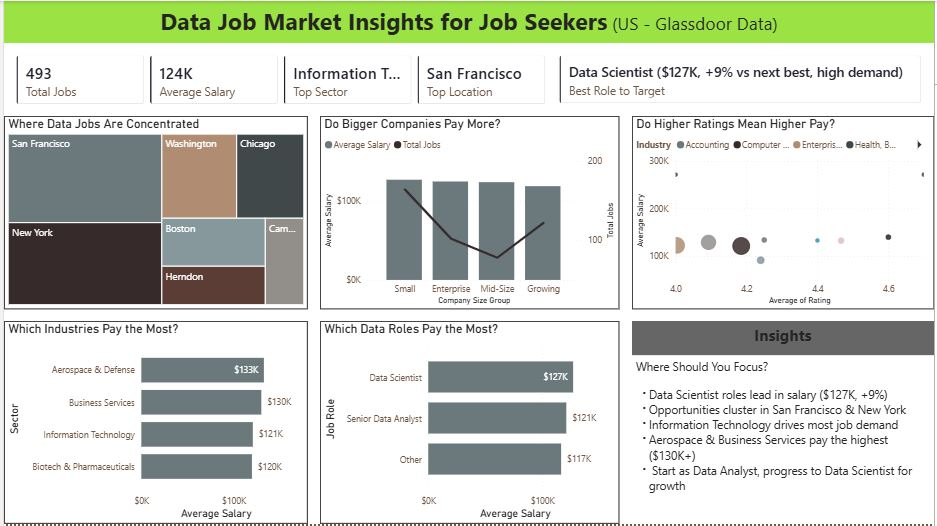

The dashboard page shown, as its layout file describes it:
{"tool":"powerbi","page":{"name":"Dashboard","canvas":[1280,720],"ordinal":0},"visuals":[{"type":"scatterChart","title":"Do Higher Ratings Mean Higher Pay?","fields":{"Size":["Data.Total Jobs"],"Y":["Data.Average Salary"],"X":["Avg(Data.Rating)"],"Series":["Data.Industry"]},"box":[864.3,158.3,415.7,265.6],"z":0},{"type":"barChart","title":"Which Industries Pay the Most?","fields":{"Y":["Data.Average Salary"],"Category":["Data.Sector","Data.Job Role"]},"box":[0,440.4,418.4,279.4],"z":1000},{"type":"textbox","box":[0,0,1280,57.8],"z":2000},{"type":"cardVisual","fields":{"Data":["Data.Total Jobs","Data.Average Salary","Data.Top Sector","Data.Top Location"]},"box":[0,57.8,762.5,101.8],"z":3000},{"type":"cardVisual","fields":{"Data":["Data.Best Opportunity Smart"]},"box":[747.4,57.5,532.6,100.5],"z":4000},{"type":"barChart","title":"Which Data Roles Pay the Most?","fields":{"Y":["Data.Average Salary"],"Category":["Data.Job Role"]},"box":[434.9,440.4,411.5,279.4],"z":5000},{"type":"treemap","title":"Where Data Jobs Are Concentrated","fields":{"Group":["Data.Location"],"Values":["CountNonNull(Data.Location)"]},"box":[0,158.3,418.4,265.6],"z":6000},{"type":"lineStackedColumnComboChart","title":"Do Bigger Companies Pay More?","fields":{"Category":["Data.Company Size Group"],"Y":["Data.Average Salary"],"Y2":["Data.Total Jobs"]},"box":[434.9,158.3,411.5,265.6],"z":7000},{"type":"textbox","box":[864.3,487.2,415.7,232.6],"z":8000},{"type":"textbox","box":[864.3,440.4,415.7,46.8],"z":9000}]}

Visuals, with their boxes in screenshot pixels (x1, y1, x2, y2), scaled from the page's 1280x720 canvas onto the 937x526 screenshot:
"Do Higher Ratings Mean Higher Pay?" scatterChart: [left=633, top=116, right=936, bottom=310]
"Which Industries Pay the Most?" barChart: [left=0, top=322, right=306, bottom=525]
textbox: [left=0, top=0, right=936, bottom=42]
cardVisual - Data.Total Jobs x Data.Average Salary: [left=0, top=42, right=558, bottom=117]
cardVisual - Data.Best Opportunity Smart: [left=547, top=42, right=936, bottom=115]
"Which Data Roles Pay the Most?" barChart: [left=318, top=322, right=620, bottom=525]
"Where Data Jobs Are Concentrated" treemap: [left=0, top=116, right=306, bottom=310]
"Do Bigger Companies Pay More?" lineStackedColumnComboChart: [left=318, top=116, right=620, bottom=310]
textbox: [left=633, top=356, right=936, bottom=525]
textbox: [left=633, top=322, right=936, bottom=356]
